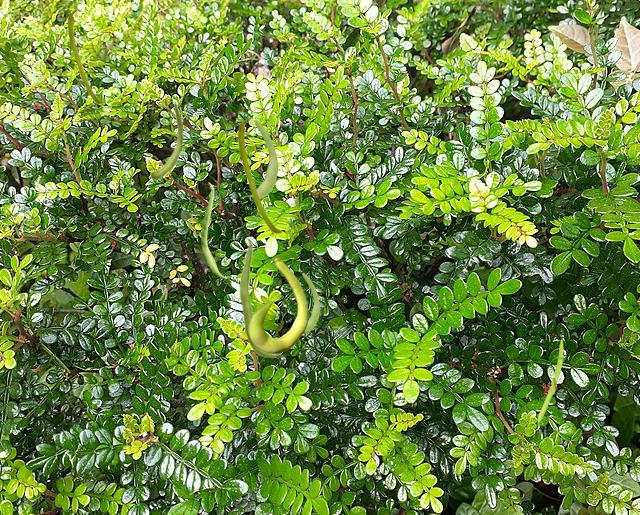french_bean: (238, 237, 285, 358), (248, 257, 307, 352), (237, 117, 282, 233), (67, 8, 103, 103), (240, 118, 277, 198), (201, 182, 230, 277), (149, 99, 183, 179), (536, 337, 563, 432), (301, 272, 319, 331)
